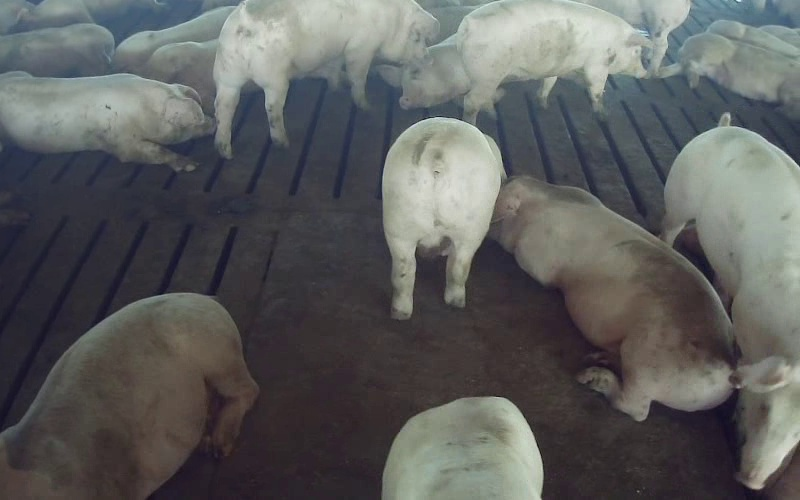pig: (490, 176, 733, 420), (0, 294, 258, 499), (663, 114, 799, 488), (213, 0, 438, 156), (382, 117, 505, 319), (456, 0, 650, 124), (382, 397, 542, 499)
